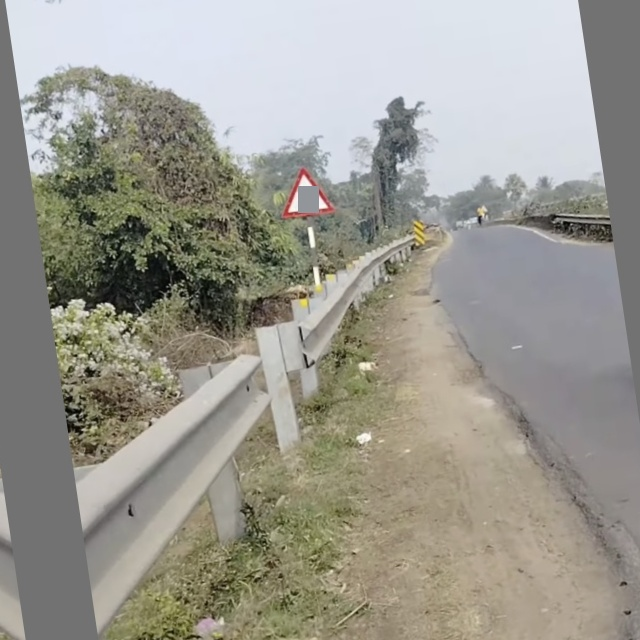Narrow_Bridge: (278, 163, 335, 220)
